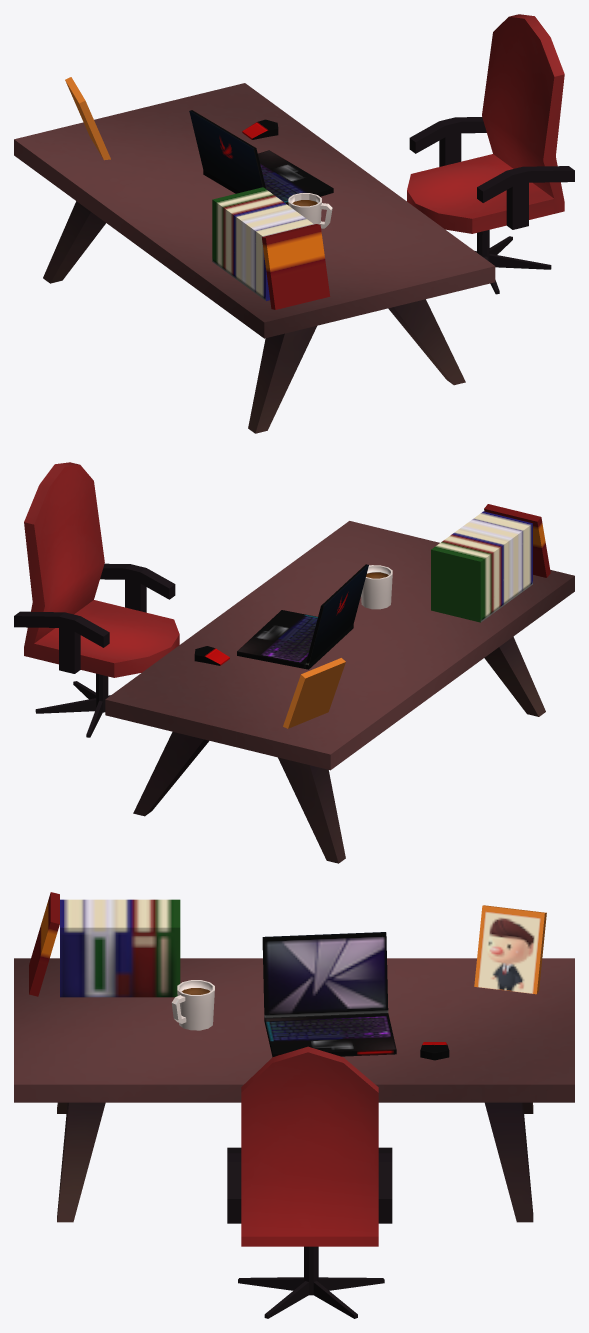
Rendered from Lux_Comp_T5.fbx.
3 views of the same model, one above another, from view 1: azimuth 30°, elevation 25°; view 2: azimuth 150°, elevation 25°; view 3: azimuth 270°, elevation 25° (orthographic). The views are drawn at different scales.
Visible parts, largest first — view 1: Lux_Comp_T5; view 2: Lux_Comp_T5; view 3: Lux_Comp_T5.
Part boxes in pixels (x1,y1,x2,y2): Lux_Comp_T5: (14, 14, 574, 433); Lux_Comp_T5: (14, 462, 574, 863); Lux_Comp_T5: (14, 892, 574, 1318).
Size of the model in its own units: 10.76 by 6.08 by 11.49.
Materials: 1 (1 with a texture image).
